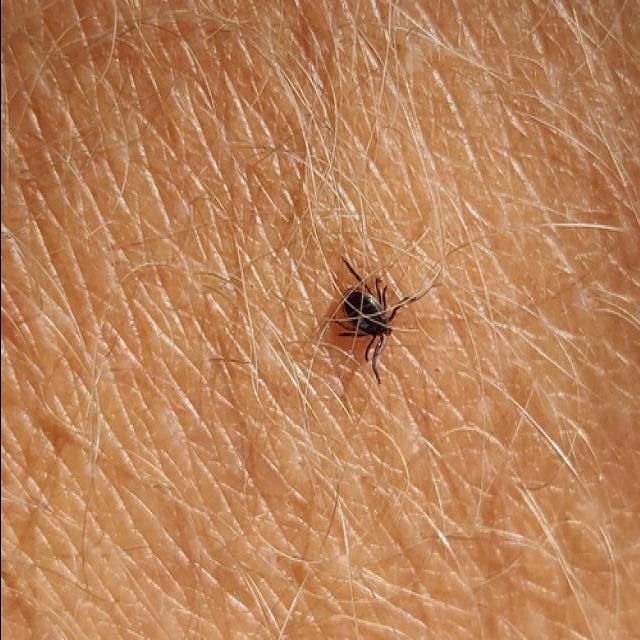Ixodes Ricinus-M: (325, 254, 410, 384)
